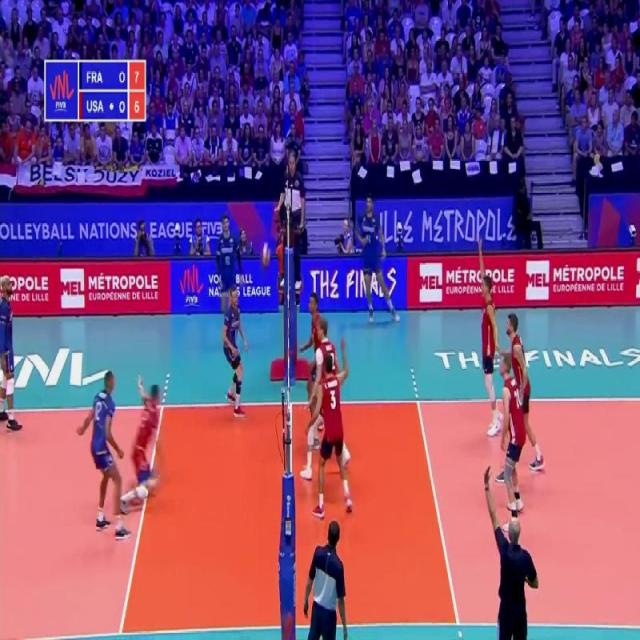volleyball: (261, 243, 270, 266)
